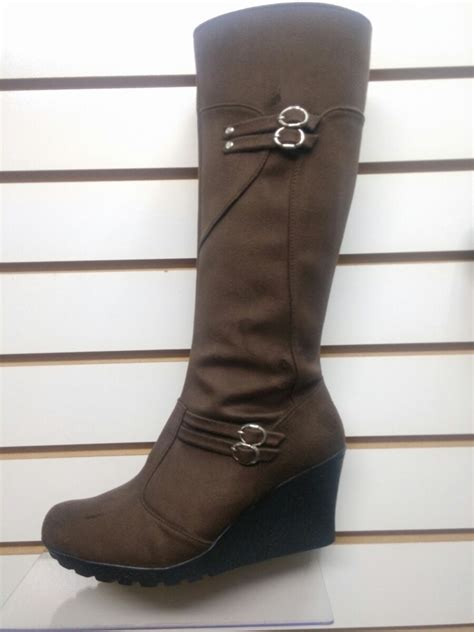gamuza: (42, 3, 372, 568)
